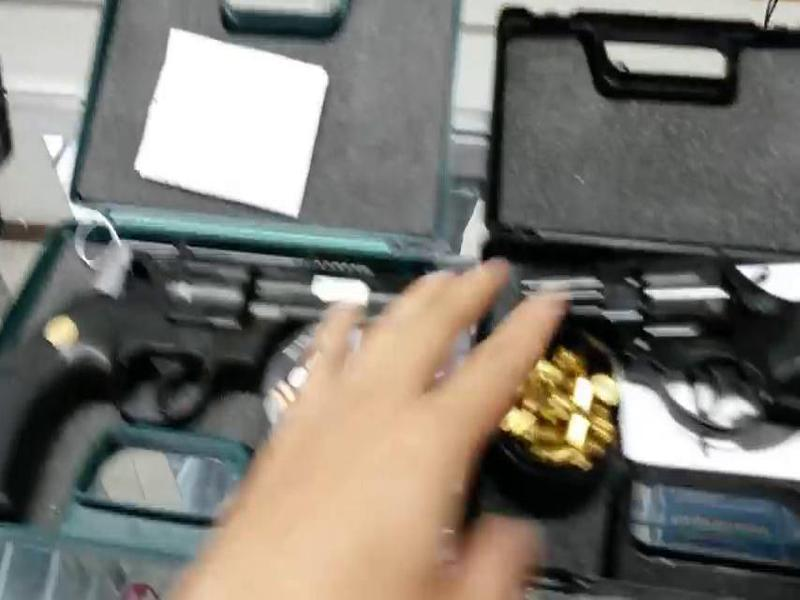Revolver: (1, 238, 406, 518), (519, 227, 800, 433)
